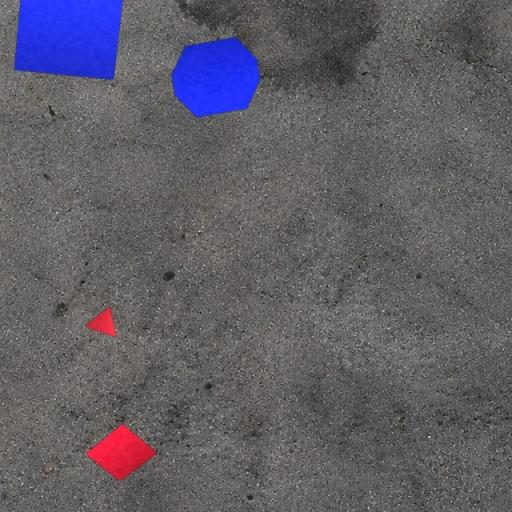BLUE_SQUARE: (14, 0, 124, 81)
RED_SQUARE: (84, 424, 158, 482)
